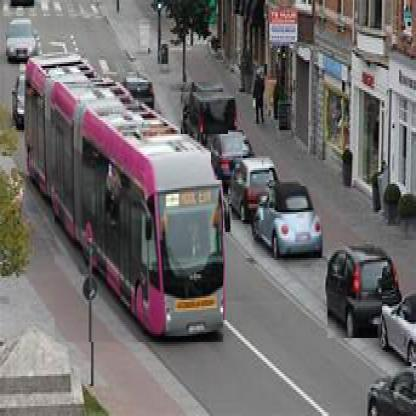bus: (56, 83, 226, 345)
car: (329, 245, 385, 341), (253, 187, 325, 261), (233, 157, 272, 223), (387, 301, 416, 385), (370, 363, 416, 415), (182, 93, 230, 137), (212, 131, 245, 183), (7, 23, 45, 59)
